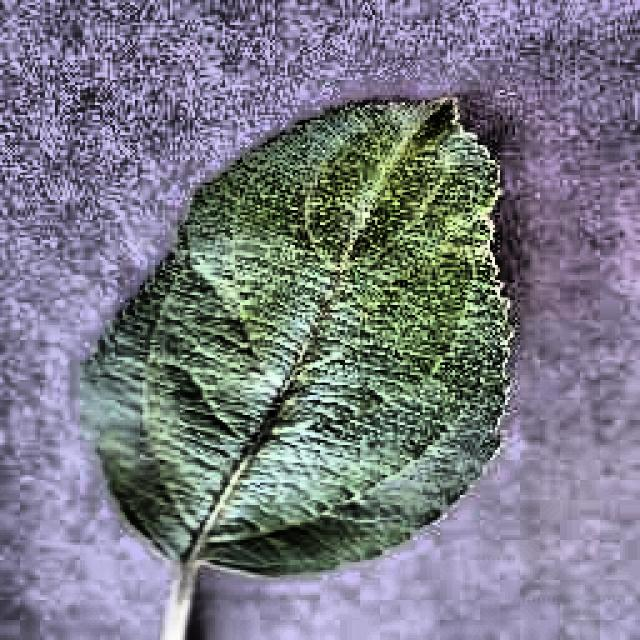tobacco: (82, 100, 508, 572)
